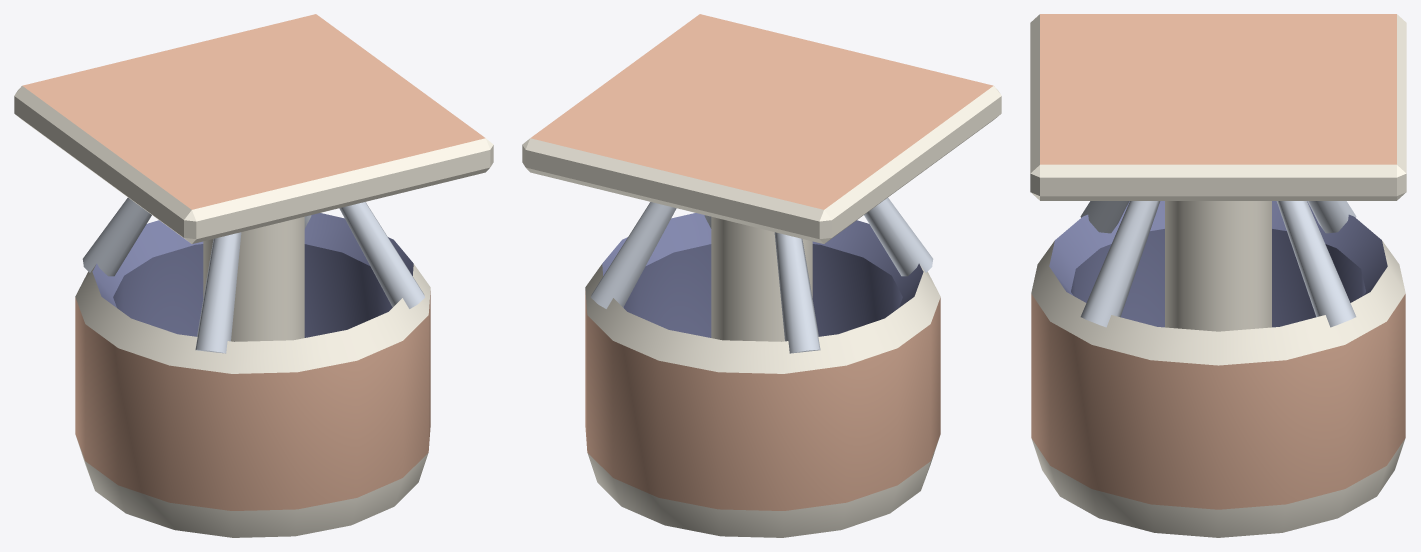
File: R4M_HoverEngine_LOD1.fbx
3 views of the same model, side by side, from view 1: azimuth 30°, elevation 25°; view 2: azimuth 150°, elevation 25°; view 3: azimuth 270°, elevation 25° (orthographic). The views are drawn at different scales.
Visible parts, largest first — view 1: R4M_HoverEngine_LOD1; view 2: R4M_HoverEngine_LOD1; view 3: R4M_HoverEngine_LOD1.
Part boxes in pixels (bbox=[...]): R4M_HoverEngine_LOD1: bbox=[14, 14, 493, 537]; R4M_HoverEngine_LOD1: bbox=[522, 14, 1001, 537]; R4M_HoverEngine_LOD1: bbox=[1030, 14, 1406, 537].
Bounding box in the file's own units: 0.52 × 0.577 × 0.52.
